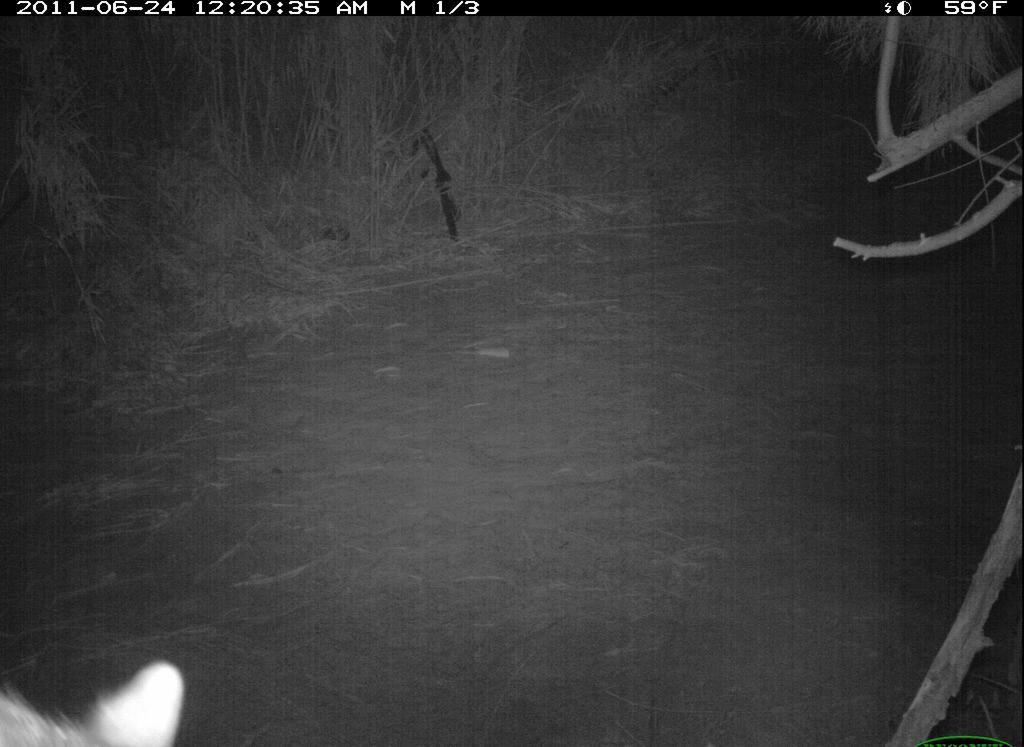raccoon: (3, 649, 189, 747)
